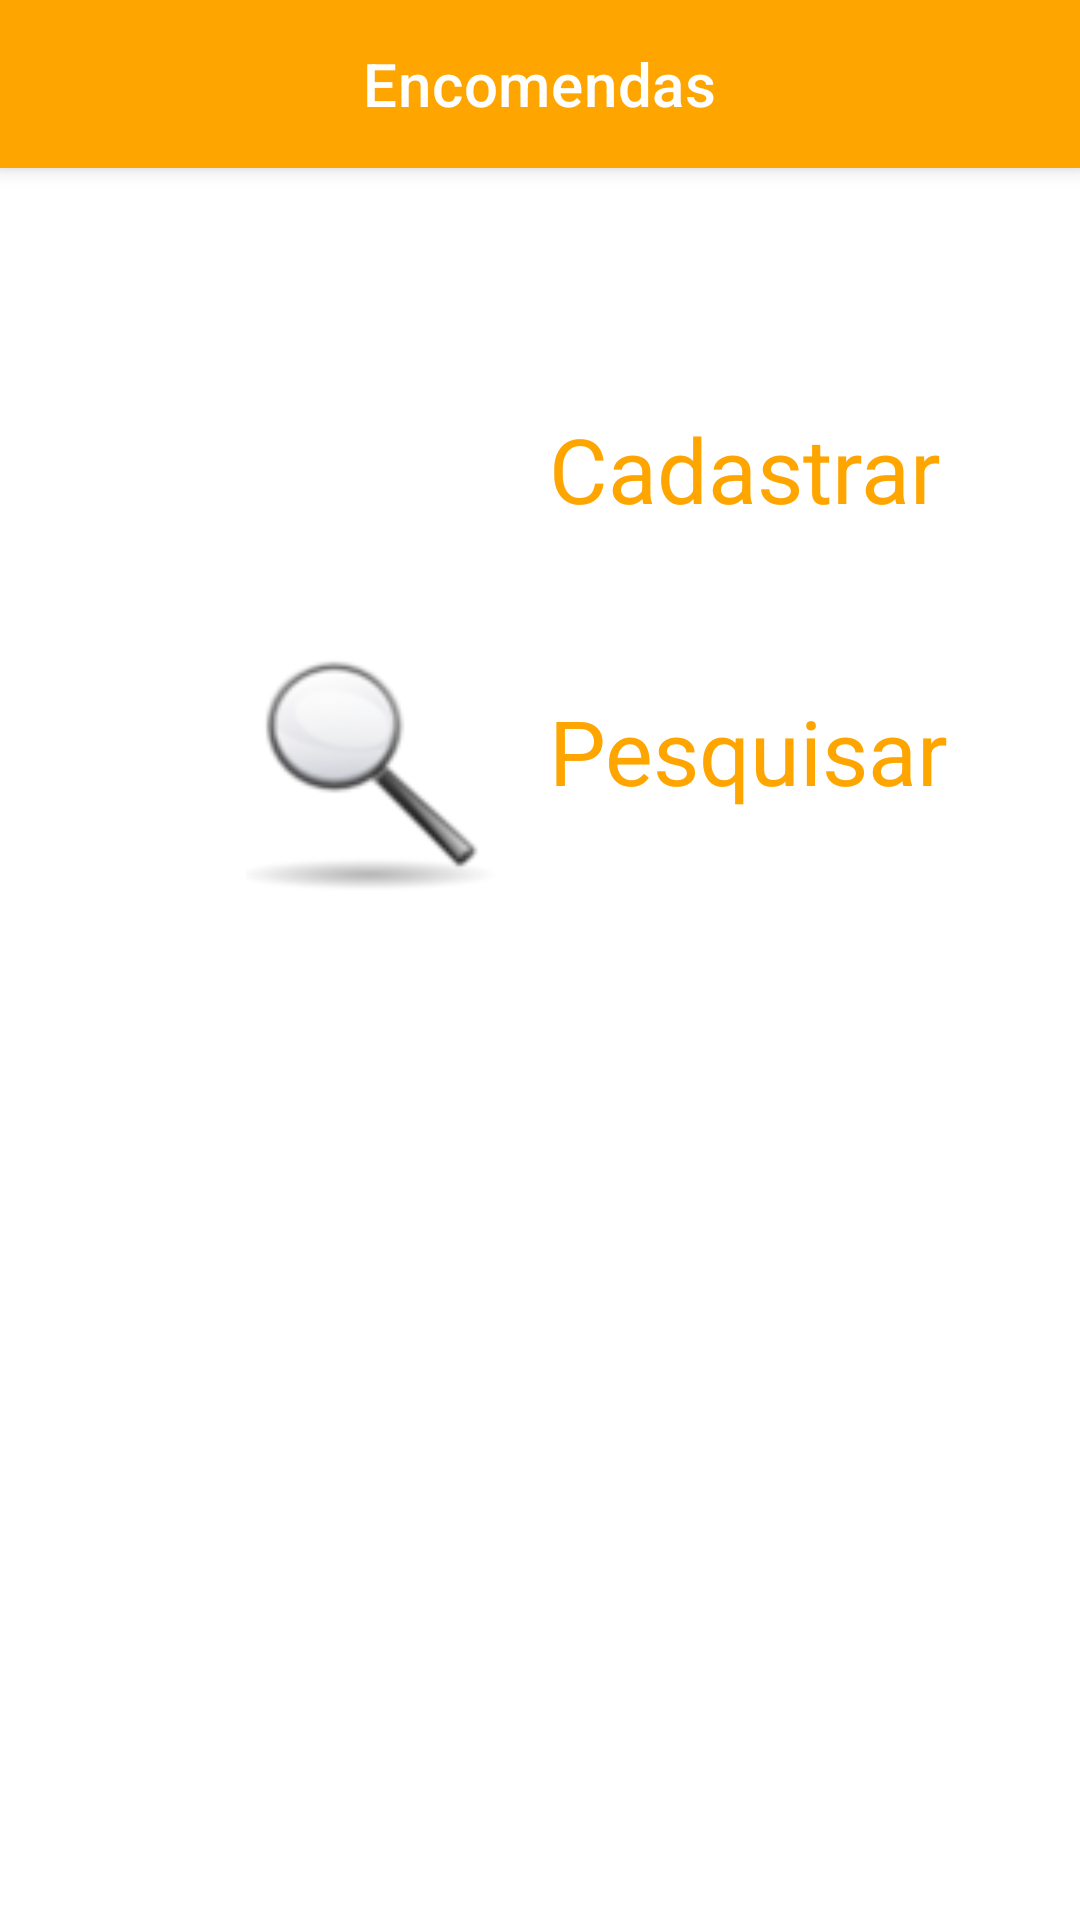

Icon bounding boxes for this 1080px×1920px phone screenshot, format (x1, y1, x2, y2):
imgbuscar: (266, 662, 477, 885)
